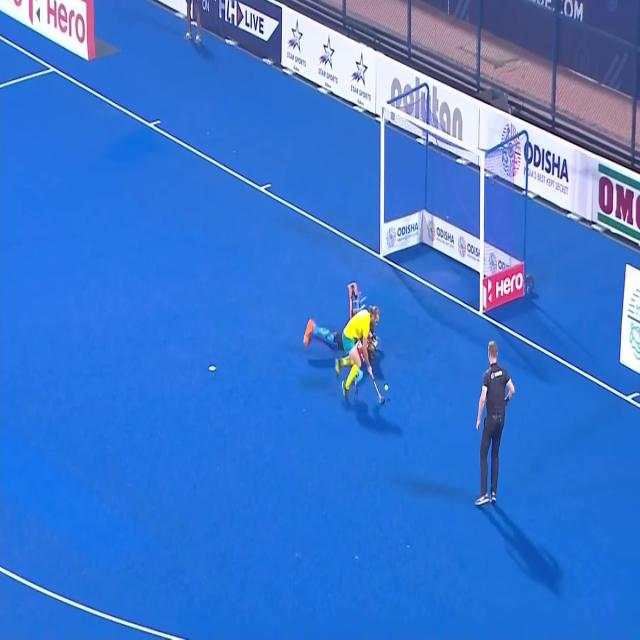ball: (383, 378, 391, 394)
